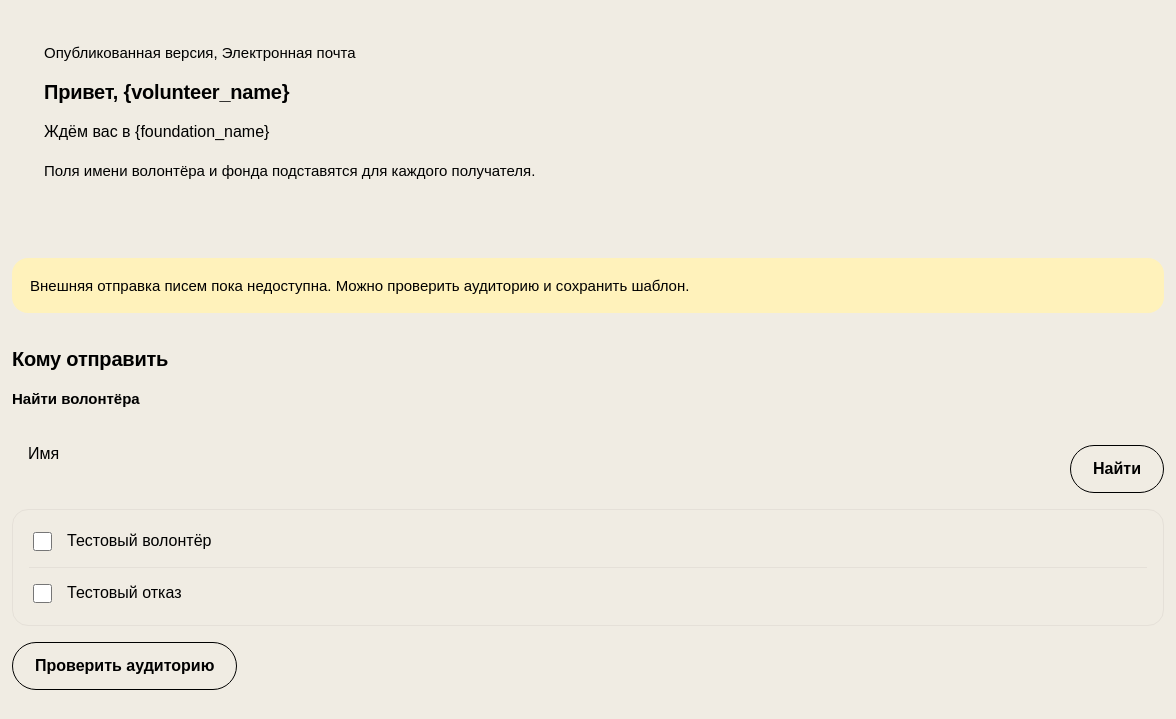
Test: reviewed notification audience › blocks unavailable external email while the independently available in-app channel works
Click the checkbox labelled "Тестовый волонтёр".
click(42, 542)  # box x1=33 y1=532 x2=52 y2=551
(page scrolled)
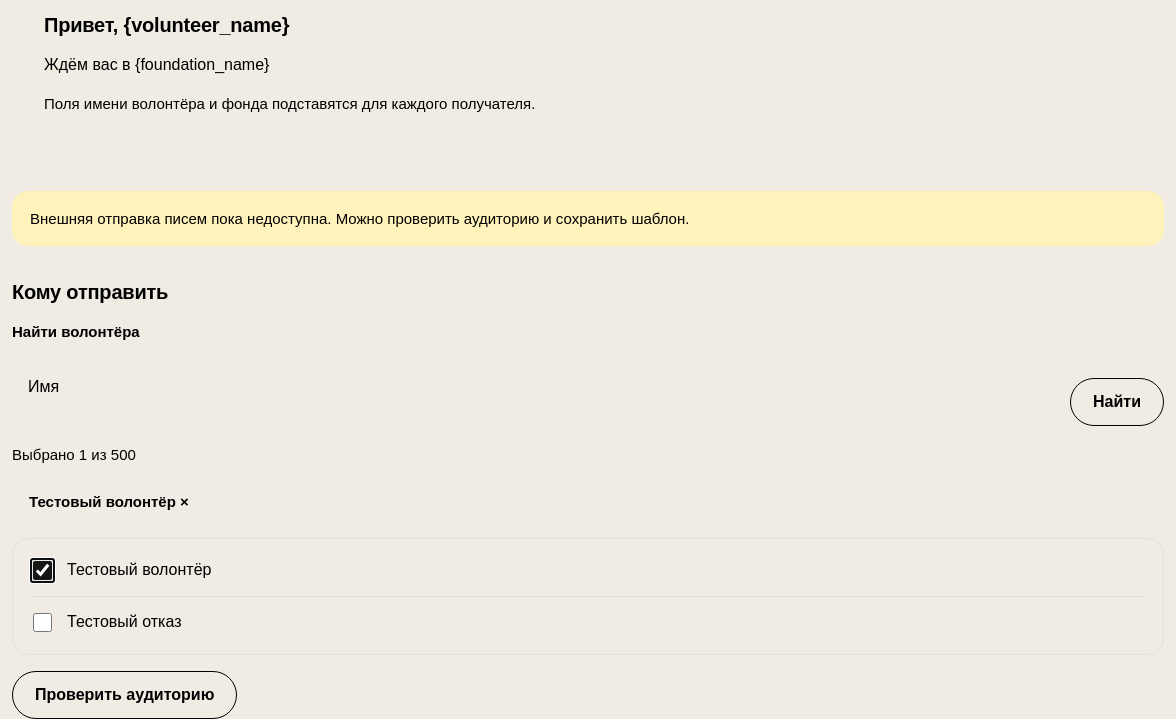
Click the button "Проверить аудиторию".
click(125, 695)  # box x1=12 y1=671 x2=237 y2=718
(page scrolled)
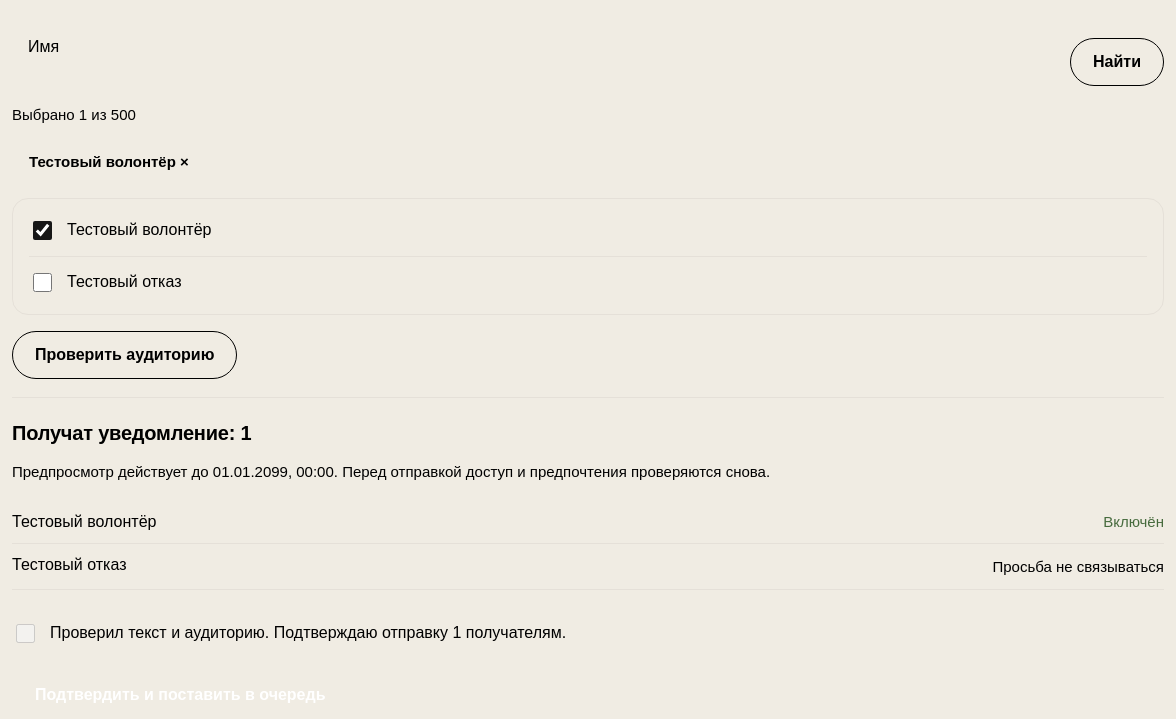
Result: the heading "Получат уведомление: 1" is shown at x1=12 y1=422 x2=252 y2=444
Result: the checkbox labelled "Проверил текст и аудиторию" is disabled at x1=16 y1=624 x2=35 y2=643
Result: the button "Подтвердить и поставить в очередь" is disabled at x1=12 y1=671 x2=348 y2=718
